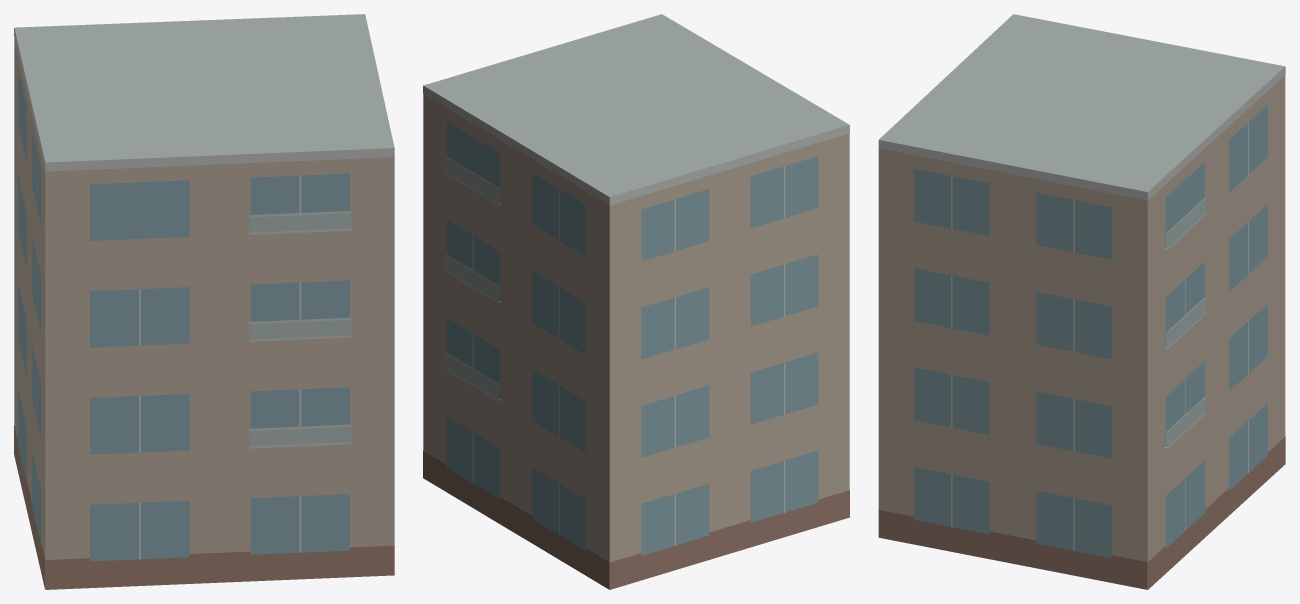
Rendered from survey-upis-33023333.glb.
3 renders of one model, left to right at view 1: azimuth 30°, elevation 25°; view 2: azimuth 150°, elevation 25°; view 3: azimuth 270°, elevation 25°, orthographic. The views are drawn at different scales.
Parts seen in each view (by area): view 1: survey-upis-33023333.tmp; view 2: survey-upis-33023333.tmp; view 3: survey-upis-33023333.tmp.
Boxes of the visible parts, box(x1,y1,x2,y2) form: survey-upis-33023333.tmp: box(14, 14, 394, 589); survey-upis-33023333.tmp: box(423, 14, 849, 589); survey-upis-33023333.tmp: box(878, 14, 1285, 589).
Size of the model in its own units: 11.05 by 11.5 by 10.67.
